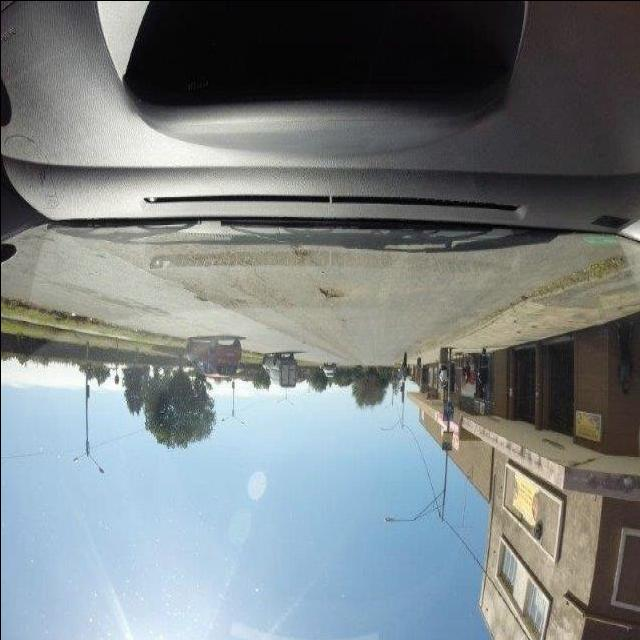lubang: (314, 284, 351, 302), (228, 293, 252, 313), (286, 244, 312, 262), (189, 288, 211, 306), (336, 314, 351, 326)
